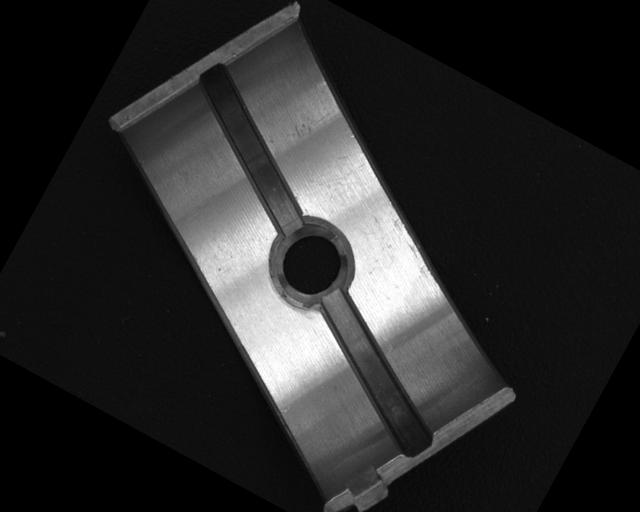gap: (153, 59, 352, 240), (279, 286, 472, 462)
hole: (258, 210, 363, 316)
